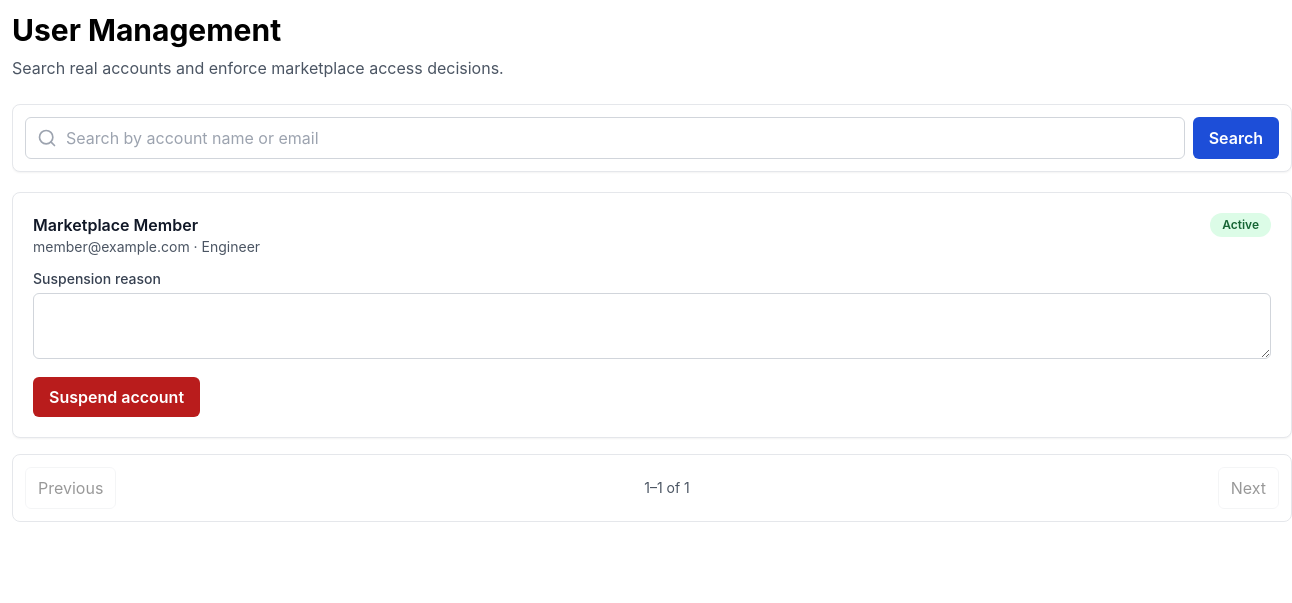
UserManagementView › loads real accounts and requires a reason before suspension
Expected: the heading "Marketplace Member" is shown, [33, 215, 198, 235]
Click the button "Suspend account" at {"x": 116, "y": 397}, box [33, 377, 200, 417]
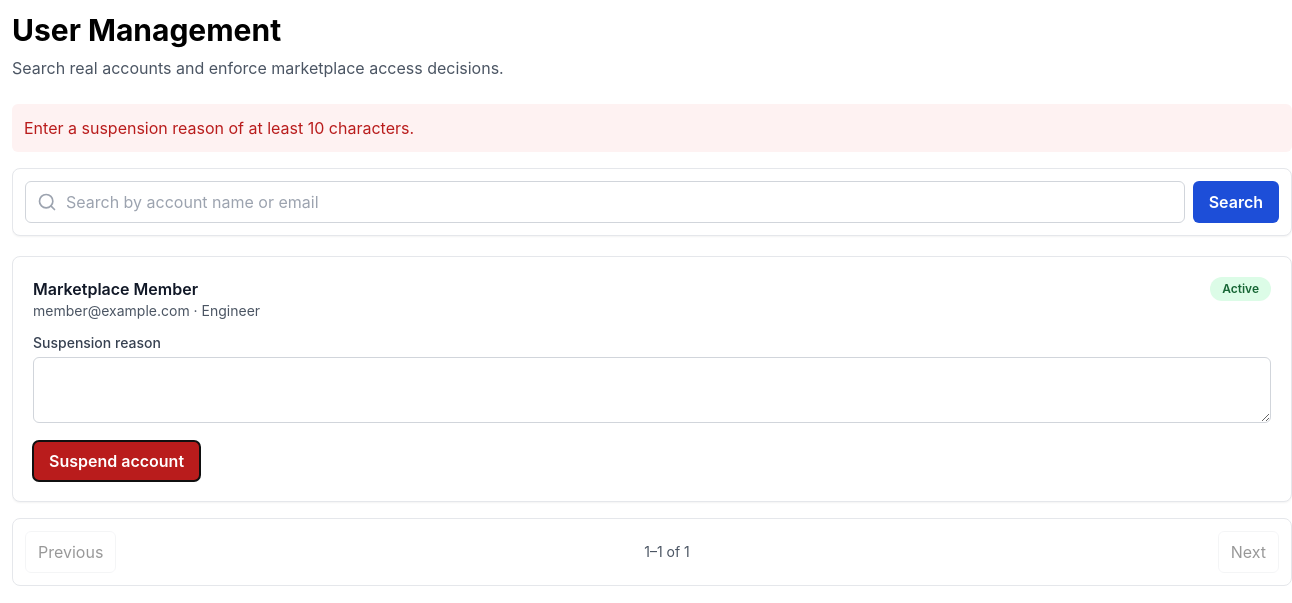
Expected: the message shows "at least 10 characters", [24, 118, 414, 138]
Type "Repeated marketplace policy violations." into the text box labelled "Suspension reason" at {"x": 652, "y": 390}, box [33, 357, 1271, 423]
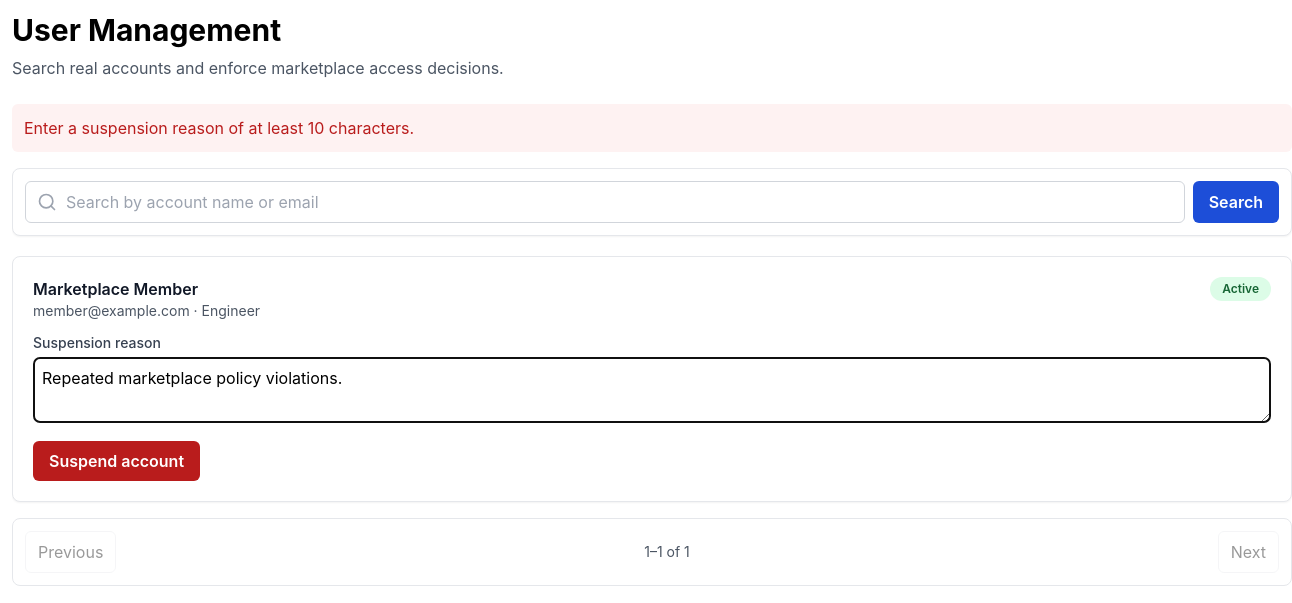
Click the button "Suspend account" at {"x": 116, "y": 461}, box [33, 441, 200, 481]
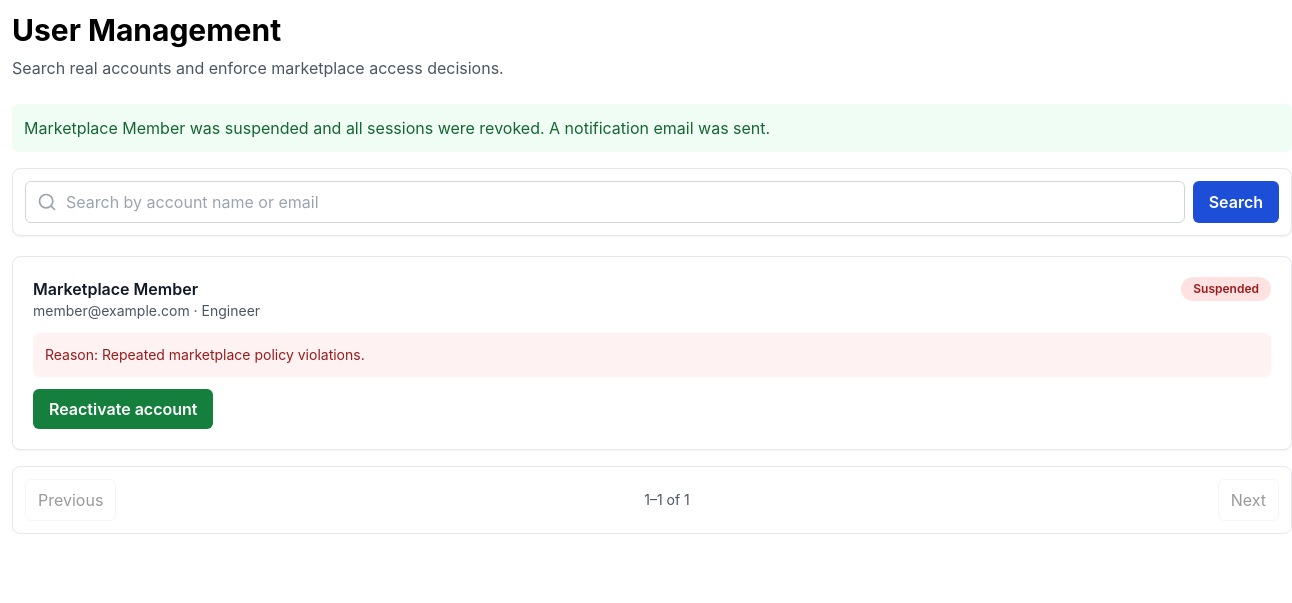
Expected: the text "Suspended" is shown, [1181, 277, 1271, 301]
Expected: the message shows "sessions were revoked", [24, 118, 770, 138]
Expected: the message shows "notification email was sent", [24, 118, 770, 138]
